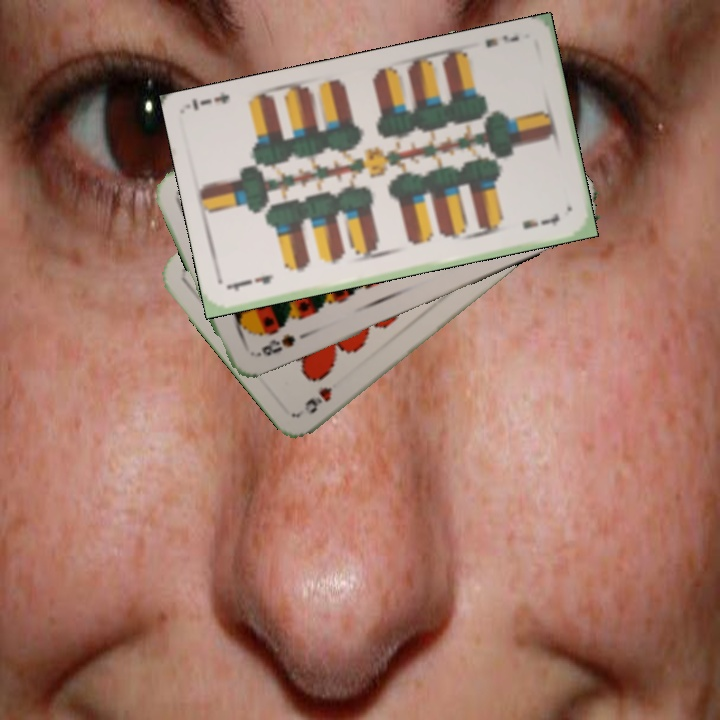E7: (225, 270, 276, 294), (481, 31, 522, 50)
H9: (300, 383, 335, 416)
S8: (252, 330, 298, 360)
